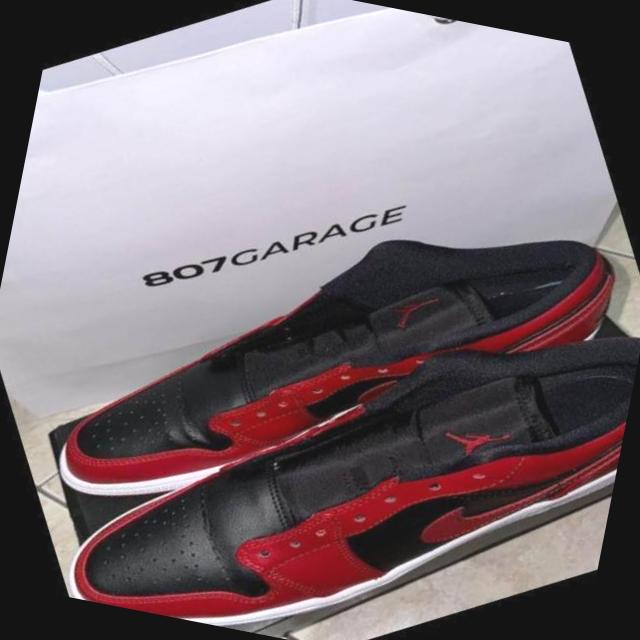nike_original_jordan: (0, 77, 640, 628), (14, 187, 640, 640)
